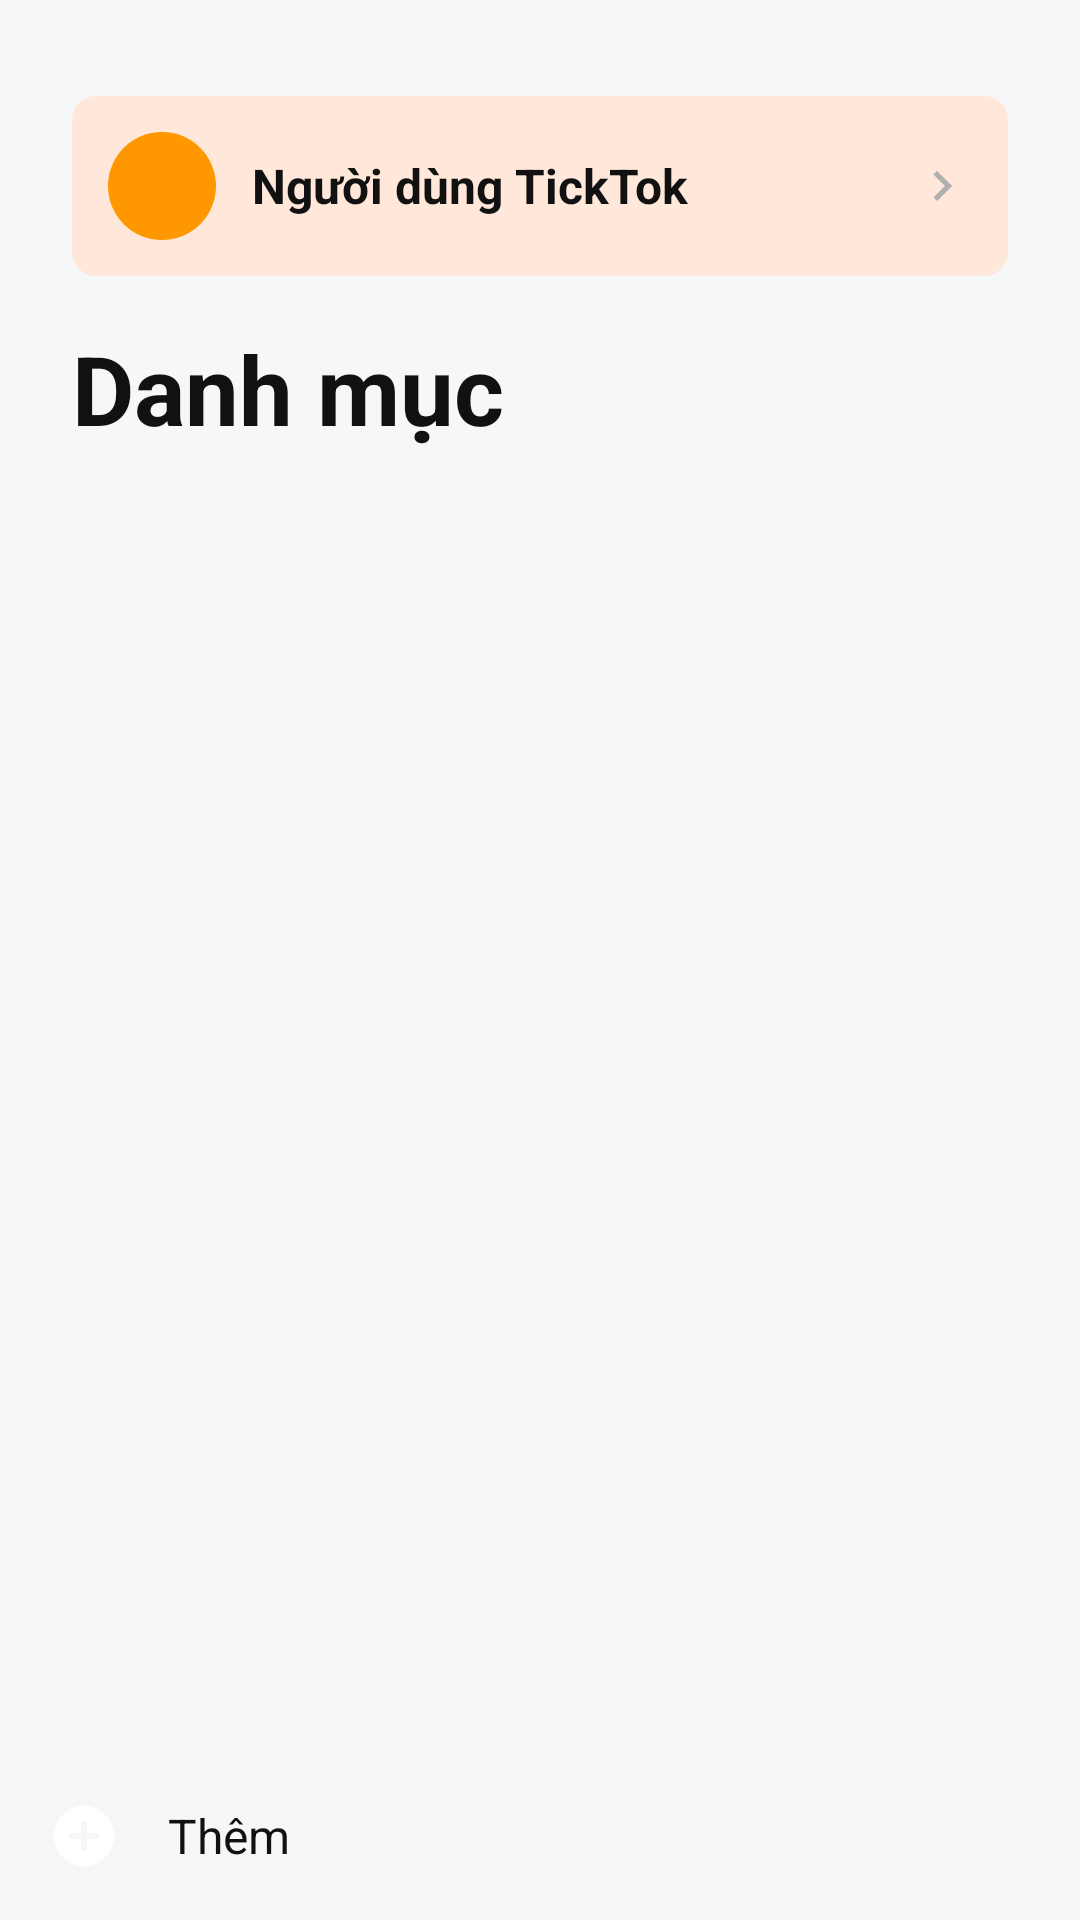

Where icons sit on this 1080 × 1920 app screen, as {"left": x1, "top": y1, "right": x2, "bottom": y2}:
Chevron Right Arrow: {"left": 933, "top": 171, "right": 952, "bottom": 201}
